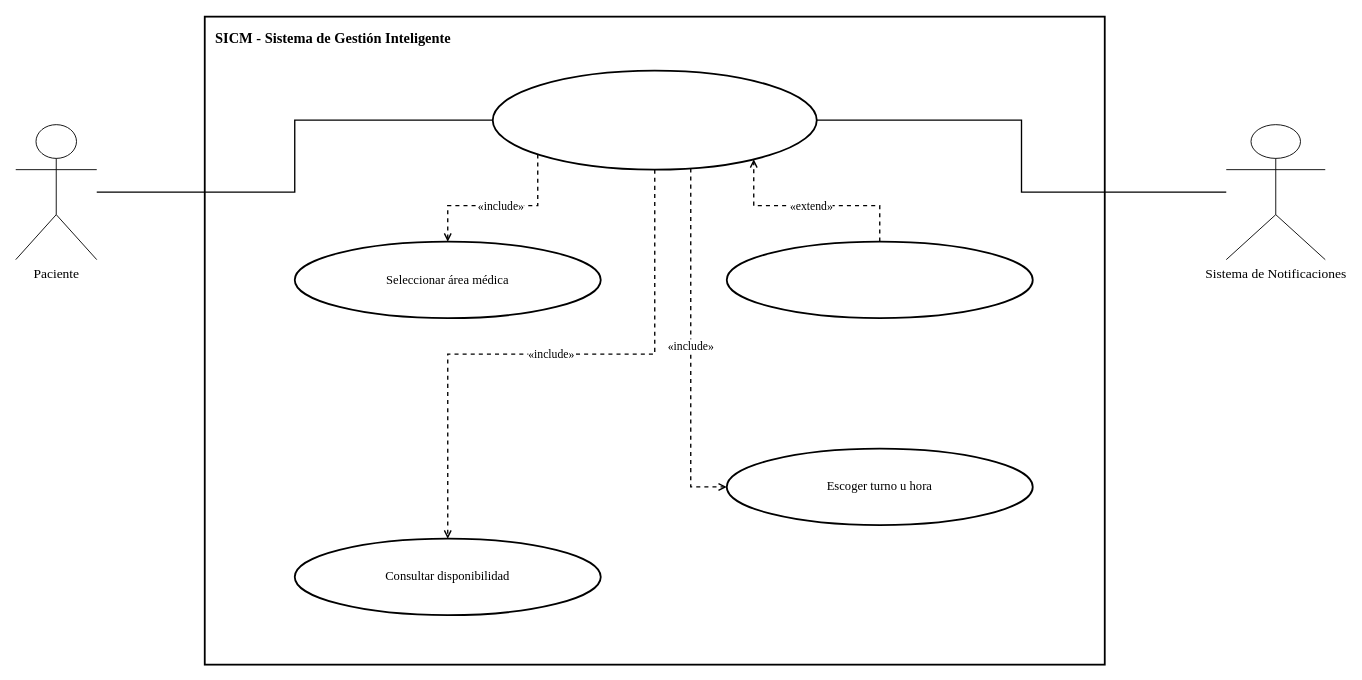
The diagram is 1362 pixels wide and 680 high, and some of its shapes have lost their labels. Each missing label, with the centre of its shape:
"Agendar cita médica" goes at pixel 654 119.
"Notificar ausencia de horarios" goes at pixel 879 279.
